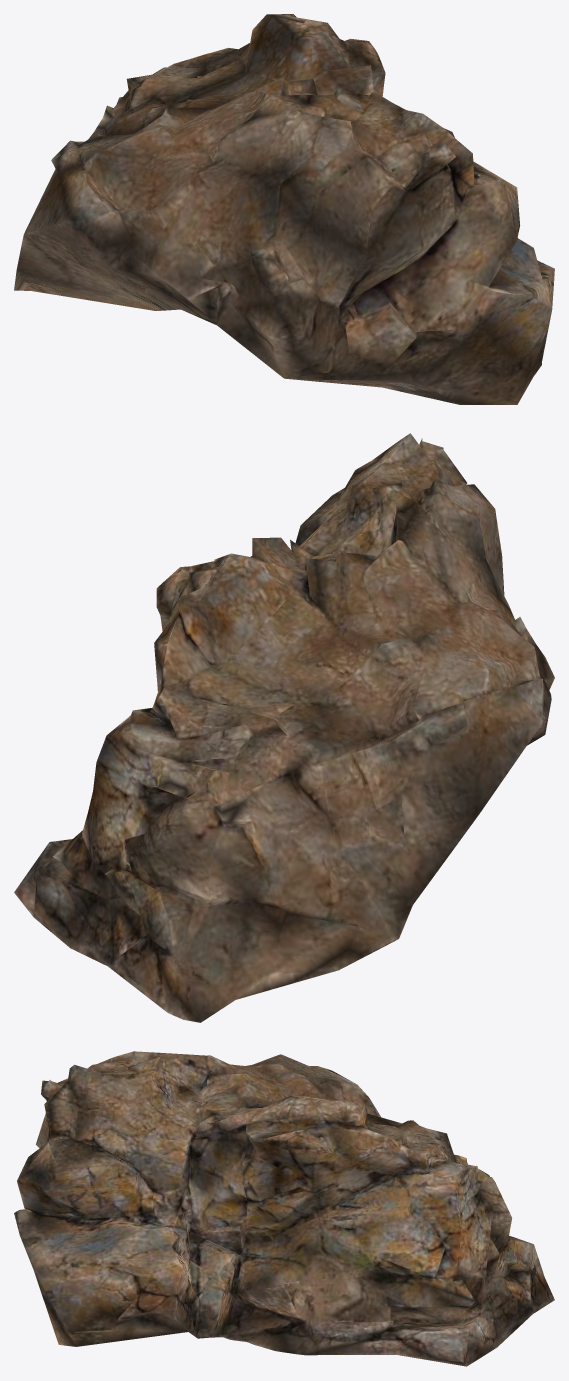
The model's file is boulder_01.lod.glb.
The picture shows the model from 3 angles, top to bottom: view 1: azimuth 30°, elevation 25°; view 2: azimuth 150°, elevation 25°; view 3: azimuth 270°, elevation 25°; orthographic projection. The views are drawn at different scales.
Visible parts, largest first — view 1: boulder_01; view 2: boulder_01; view 3: boulder_01.
Boxes of the visible parts, x1,y1,x2,y2 form: boulder_01: (14,14,554,404); boulder_01: (14,433,554,1022); boulder_01: (14,1051,554,1366).
Size of the model in its own units: 1.26 by 1 by 1.82.
Materials: 1 (1 with a texture image).
